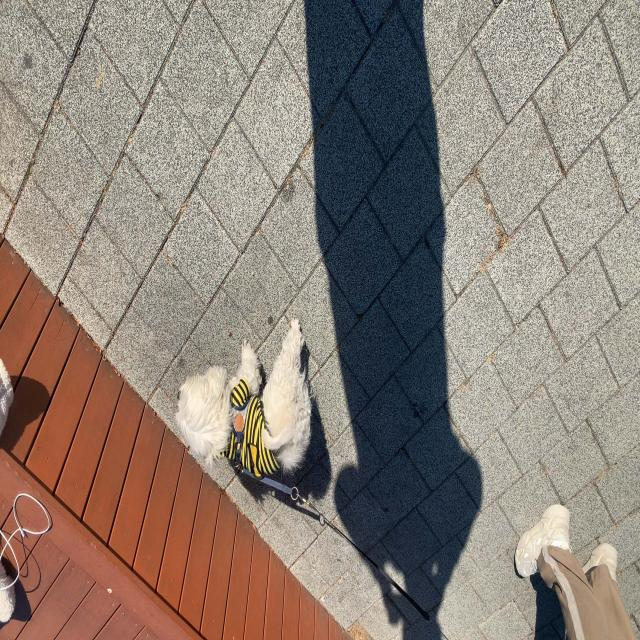Dog: (329, 162, 465, 324)
